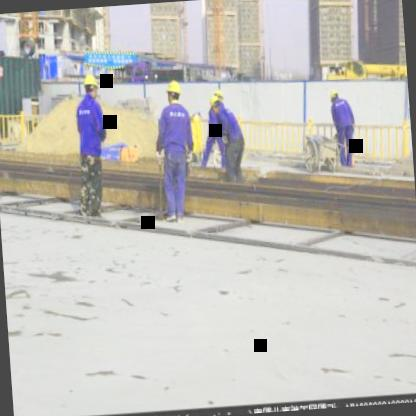helmet: (83, 70, 103, 104), (165, 78, 184, 110), (208, 94, 224, 116), (328, 88, 343, 106)
